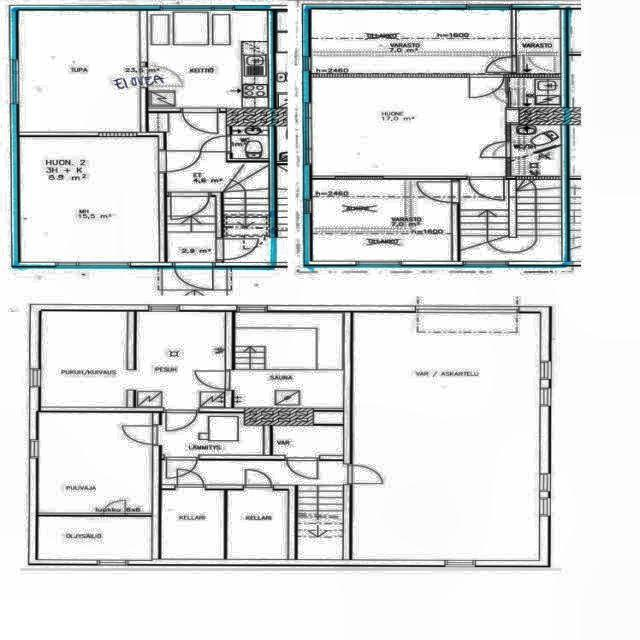room: (41, 311, 225, 408), (20, 137, 158, 262), (19, 11, 139, 132), (311, 9, 512, 73), (148, 11, 268, 108), (38, 412, 152, 514), (313, 179, 451, 261), (234, 313, 343, 408), (38, 516, 152, 560), (161, 489, 224, 559), (162, 413, 263, 455), (228, 489, 288, 559), (273, 412, 343, 455), (517, 10, 561, 73), (511, 125, 561, 176), (511, 77, 561, 107), (232, 126, 269, 158)
